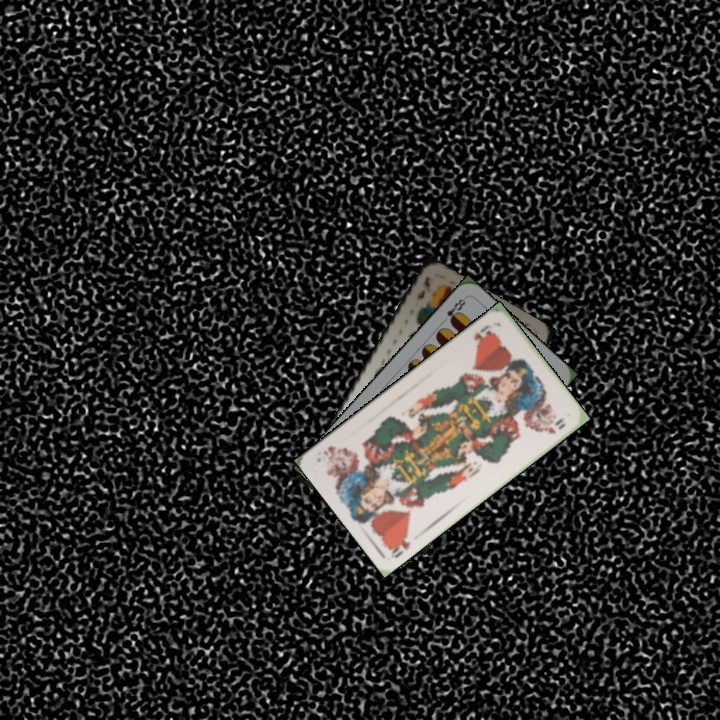E8: (437, 293, 469, 326)
EK: (412, 272, 433, 303)
HO: (384, 529, 413, 561), (470, 321, 497, 343)
